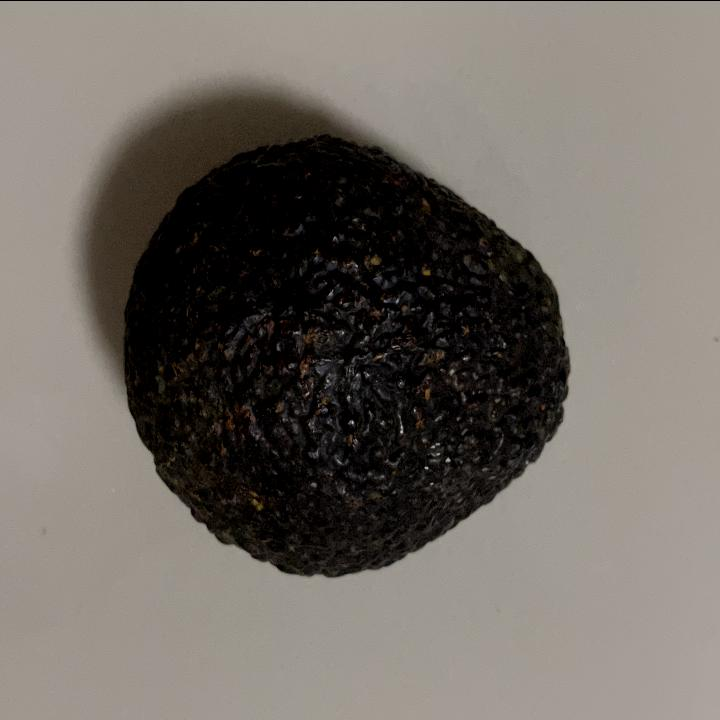Level1: (114, 124, 584, 596)
